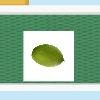ripe: (30, 44, 66, 67)
